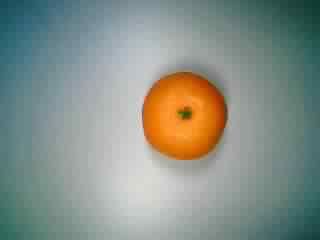orange: (135, 64, 230, 166)
